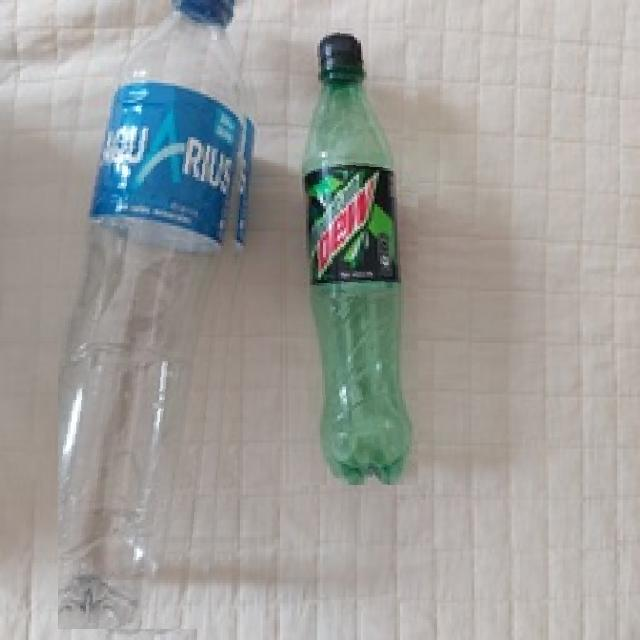plastic bottle: (58, 0, 258, 629), (279, 20, 418, 485)
